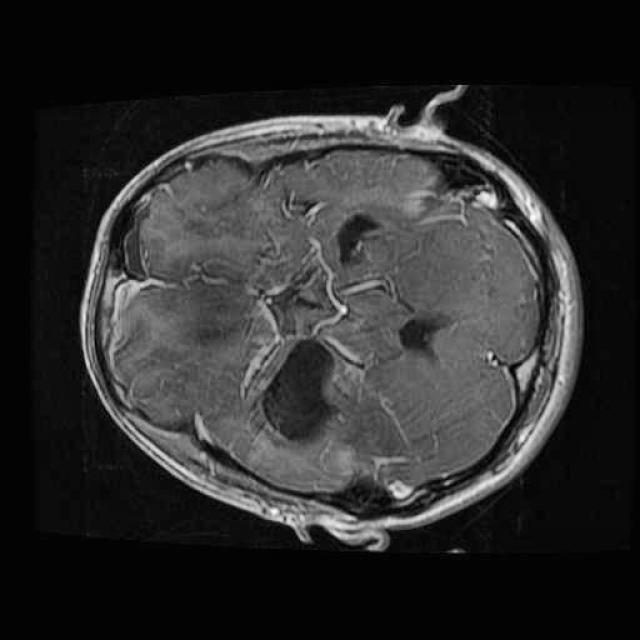Tumor: (247, 322, 356, 460)
